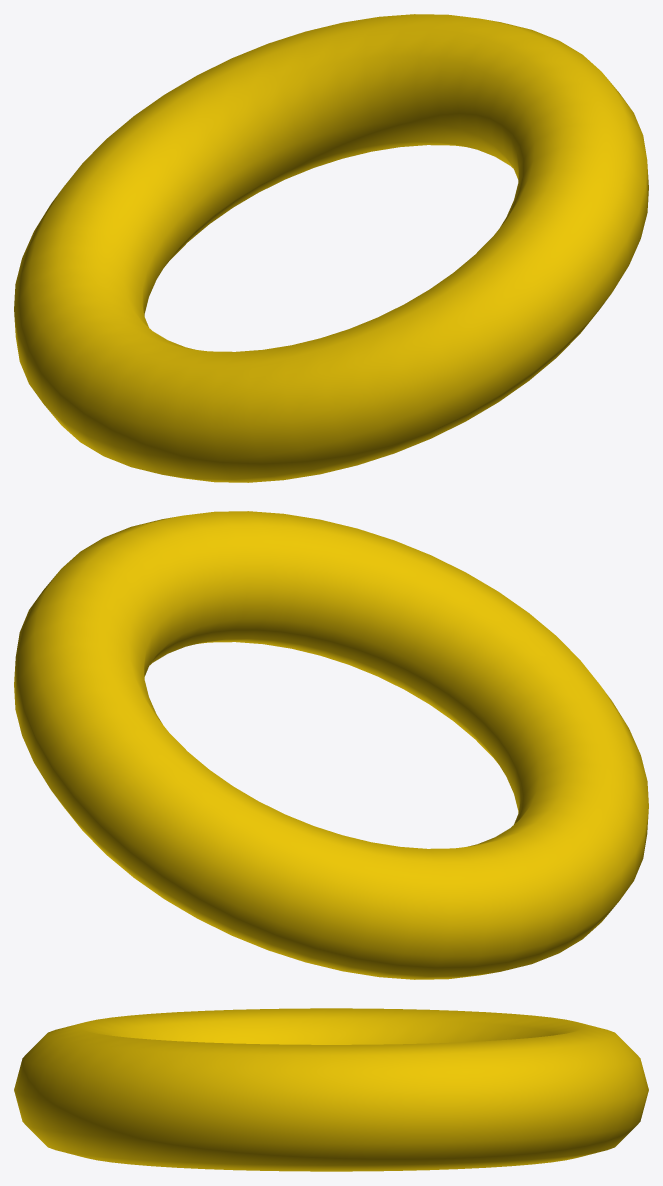
Rendered from Gorro4.fbx.
3 views of the same model, one above another, from view 1: azimuth 30°, elevation 25°; view 2: azimuth 150°, elevation 25°; view 3: azimuth 270°, elevation 25° (orthographic). The views are drawn at different scales.
Visible parts, largest first — view 1: Torus; view 2: Torus; view 3: Torus.
Part boxes in pixels (x1,y1,x2,y2): Torus: (14,14,648,482); Torus: (14,511,648,979); Torus: (14,1008,648,1171).
Bounding box in the file's own units: 54.54 × 27.85 × 57.72.
